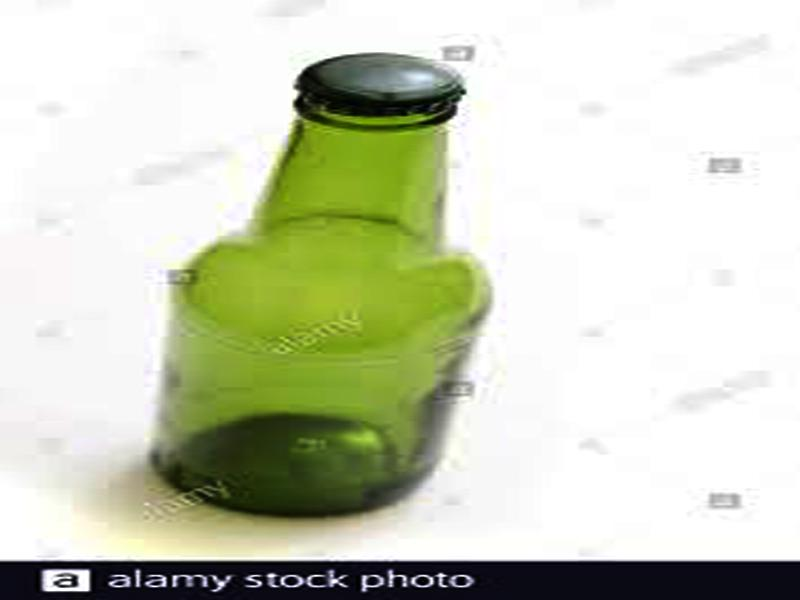Beer: (154, 53, 466, 516)
